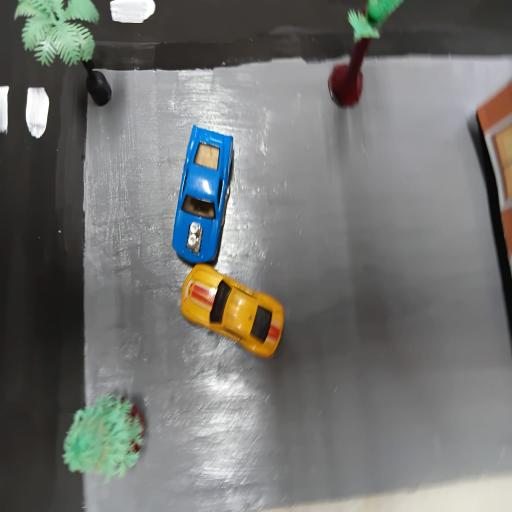car crash: (174, 122, 290, 370)
